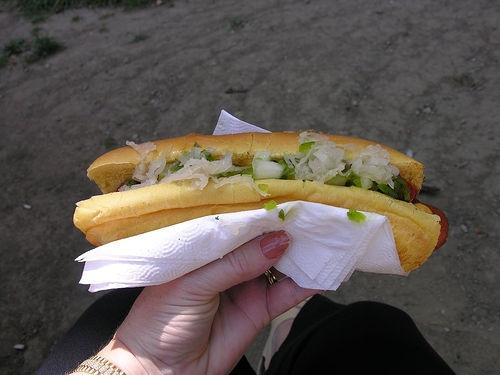onion: (159, 173, 208, 191), (252, 160, 285, 180), (126, 140, 156, 158), (314, 152, 338, 170), (154, 150, 166, 176), (362, 156, 390, 166), (148, 160, 162, 178), (277, 159, 290, 178), (252, 150, 272, 162), (324, 166, 340, 178), (316, 156, 328, 172), (174, 162, 190, 174), (334, 148, 346, 161), (209, 162, 221, 174), (159, 164, 171, 176), (338, 164, 350, 176), (200, 164, 210, 178), (360, 166, 376, 174), (192, 168, 206, 176), (310, 141, 324, 148), (194, 158, 204, 166), (376, 168, 386, 174), (144, 162, 149, 173), (134, 170, 143, 176), (146, 172, 152, 180), (200, 152, 206, 160)
